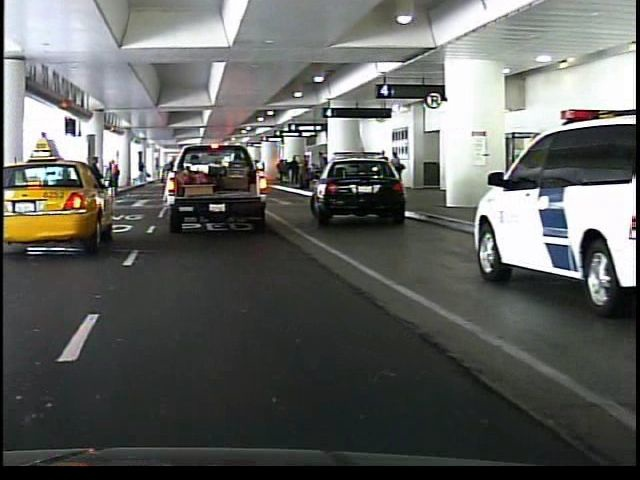person: (166, 151, 171, 203)
